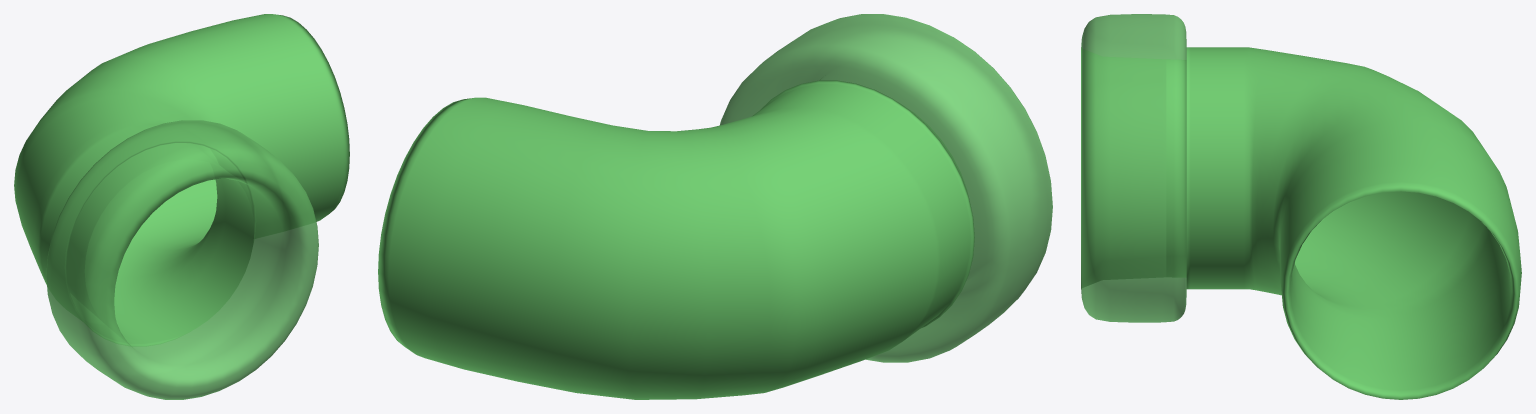
Rendered from TunnelCornerGreen.fbx.
3 renders of one model, left to right at view 1: azimuth 30°, elevation 25°; view 2: azimuth 150°, elevation 25°; view 3: azimuth 270°, elevation 25°, orthographic. The views are drawn at different scales.
Parts seen in each view (by area): view 1: TunnelCorner; view 2: TunnelCorner; view 3: TunnelCorner.
Part boxes in pixels (bbox=[...]): TunnelCorner: bbox=[14, 14, 349, 399]; TunnelCorner: bbox=[378, 14, 1052, 399]; TunnelCorner: bbox=[1081, 14, 1521, 399].
Size of the model in its own units: 4.62 by 3.13 by 4.46.
